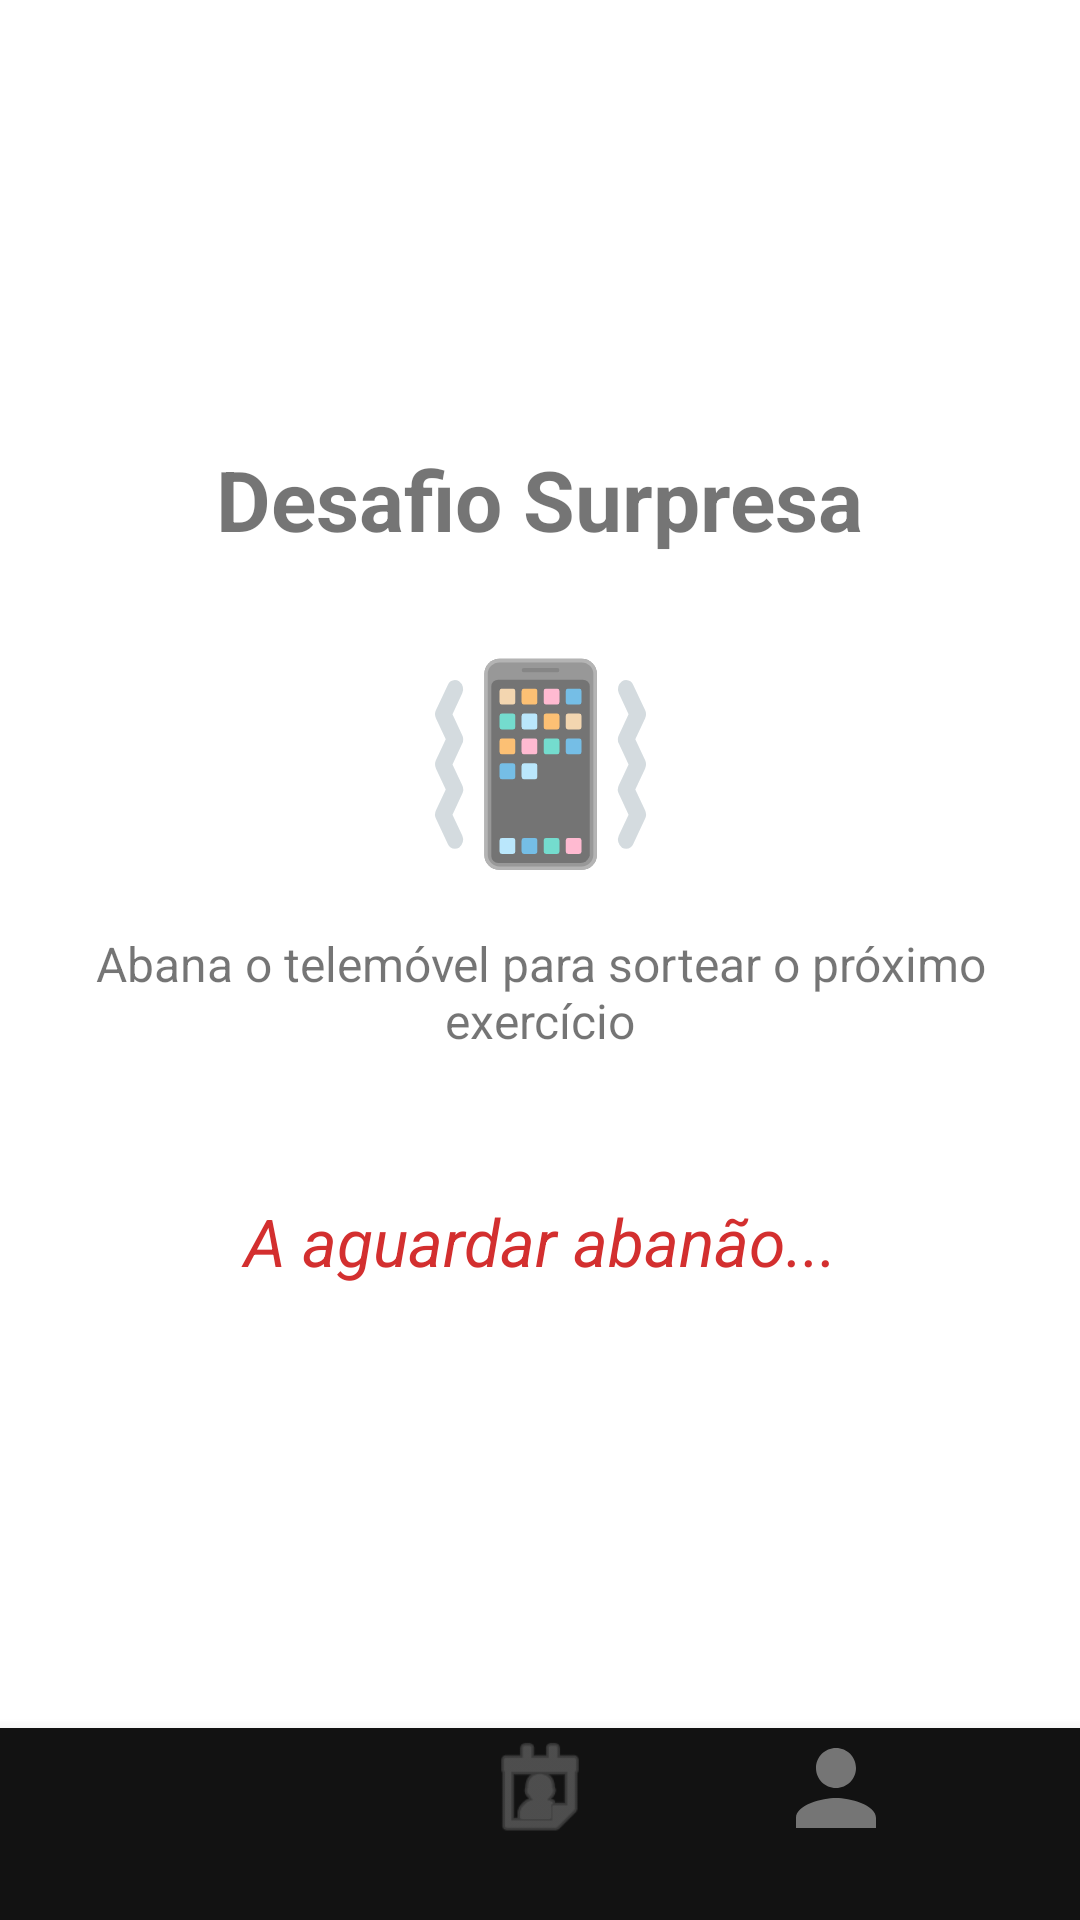

Icon bounding boxes for this 1080px x 1920px phone screenshot, format bbox=(x1, y1, x2, y2):
calendar: bbox=(501, 1743, 579, 1830)
Perfil: bbox=(796, 1748, 876, 1828)
